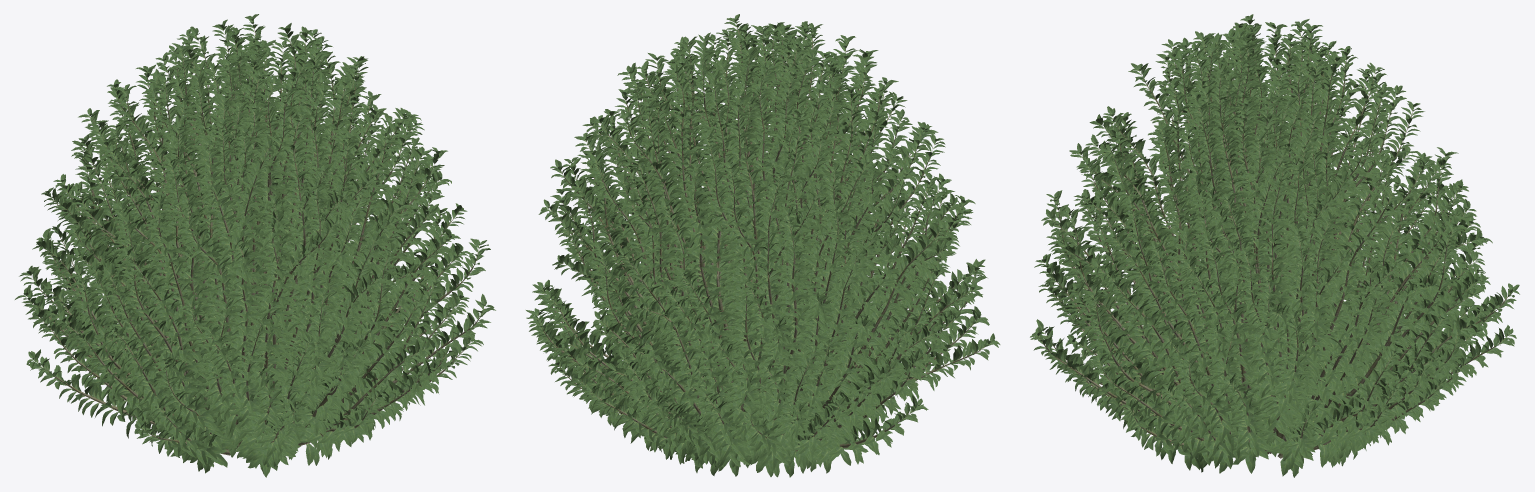
The model's file is MyrtusCommunis.glb.
3 renders of one model, left to right at view 1: azimuth 30°, elevation 25°; view 2: azimuth 150°, elevation 25°; view 3: azimuth 270°, elevation 25°, orthographic.
Visible parts, largest first — view 1: AM_154_040_Myrtus_Comunis_sc; view 2: AM_154_040_Myrtus_Comunis_sc; view 3: AM_154_040_Myrtus_Comunis_sc.
Boxes of the visible parts, x1,y1,x2,y2 form: AM_154_040_Myrtus_Comunis_sc: [15, 14, 495, 477]; AM_154_040_Myrtus_Comunis_sc: [526, 14, 1000, 477]; AM_154_040_Myrtus_Comunis_sc: [1030, 14, 1519, 477].
Size of the model in its own units: 6 by 5.8 by 6.3.
Materials: 2 (2 with a texture image).
